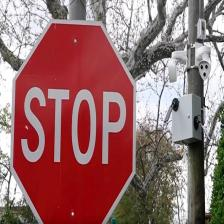Stop-sign: (7, 12, 140, 224)
